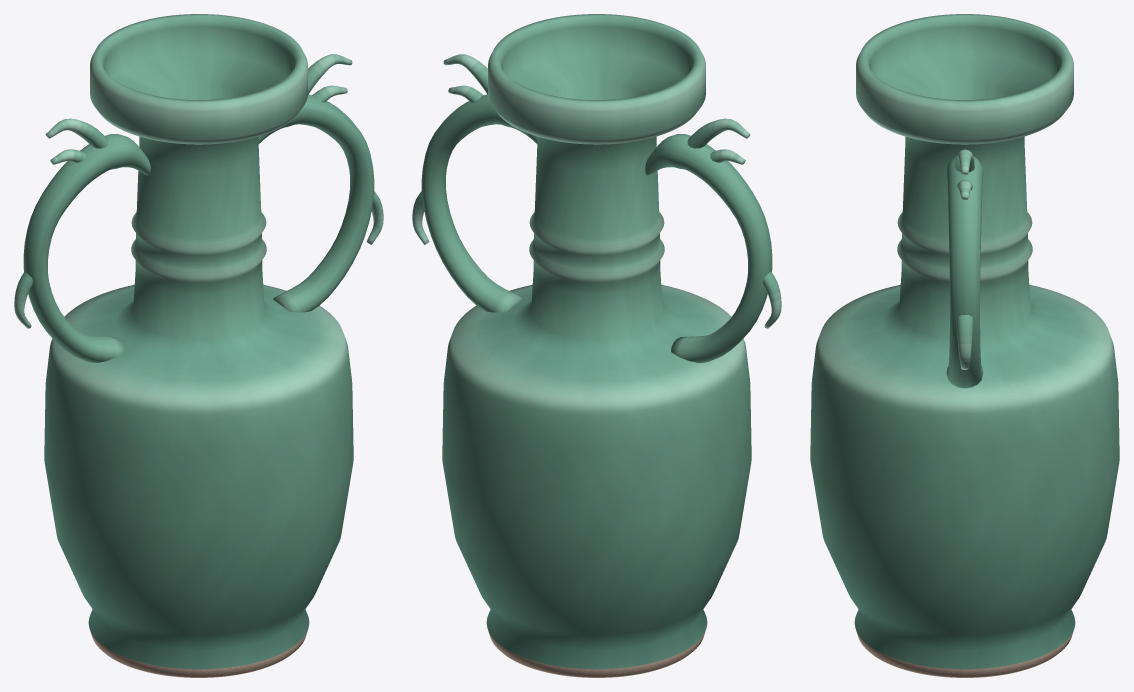
File: SongLongquan_PhoenixVase_Master.glb
3 renders of one model, left to right at view 1: azimuth 30°, elevation 25°; view 2: azimuth 150°, elevation 25°; view 3: azimuth 270°, elevation 25°, orthographic.
Parts seen in each view (by area): view 1: SongLongquan_PhoenixVase_Master; view 2: SongLongquan_PhoenixVase_Master; view 3: SongLongquan_PhoenixVase_Master.
Boxes of the visible parts, x1=… form: SongLongquan_PhoenixVase_Master: x1=14, y1=14, x2=383, y2=677; SongLongquan_PhoenixVase_Master: x1=412, y1=14, x2=781, y2=677; SongLongquan_PhoenixVase_Master: x1=810, y1=14, x2=1119, y2=677.
Size of the model in its own units: 0.1576 by 0.2358 by 0.115.
Materials: 2 (2 with a texture image).
